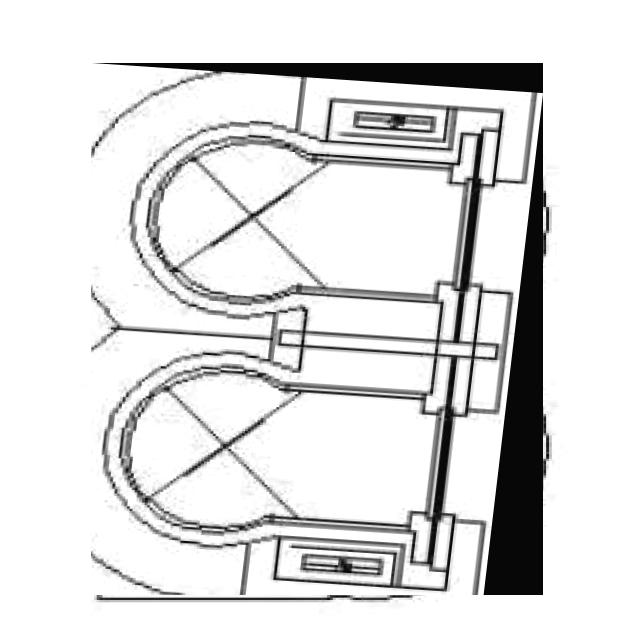lift: (91, 64, 543, 596)
